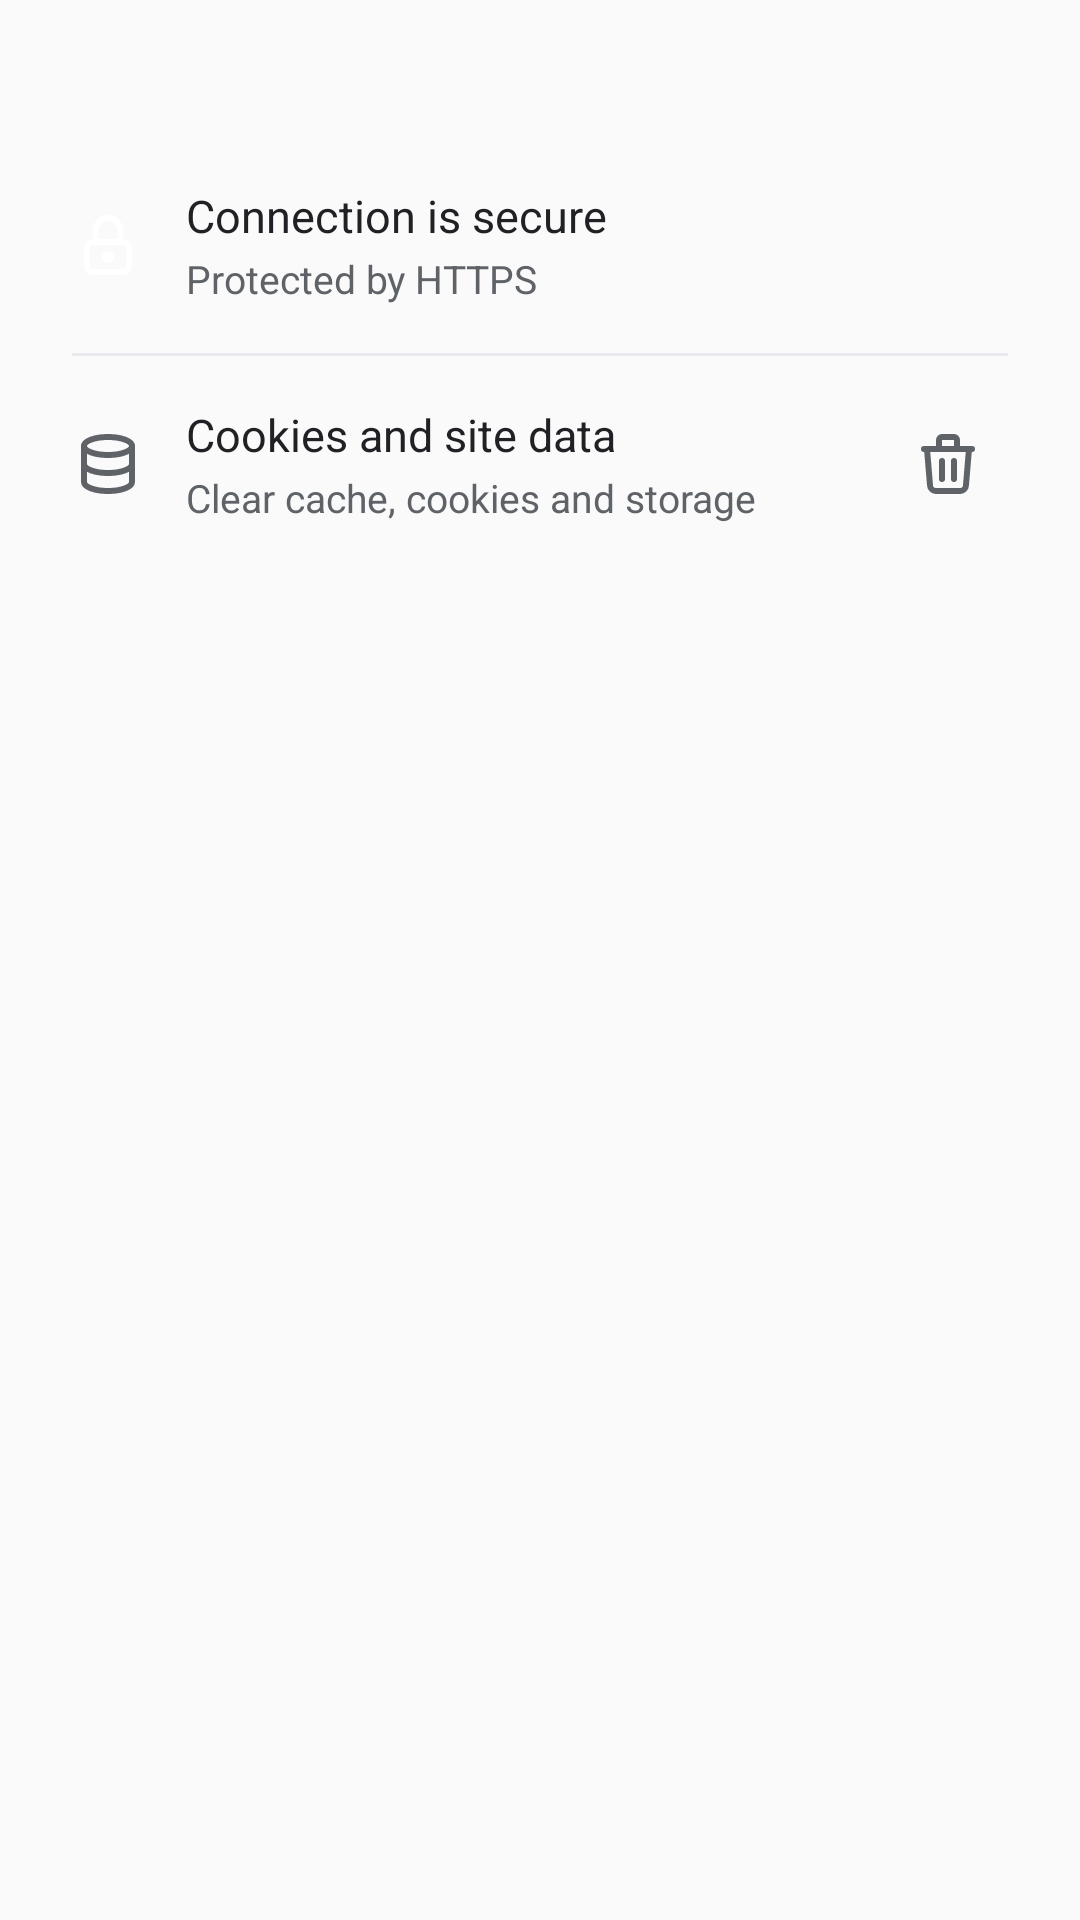

Screen size 1080×1920. Icon name, then its box in pixels as (x1, y1, x2, y2):
database: (81, 434, 135, 494)
